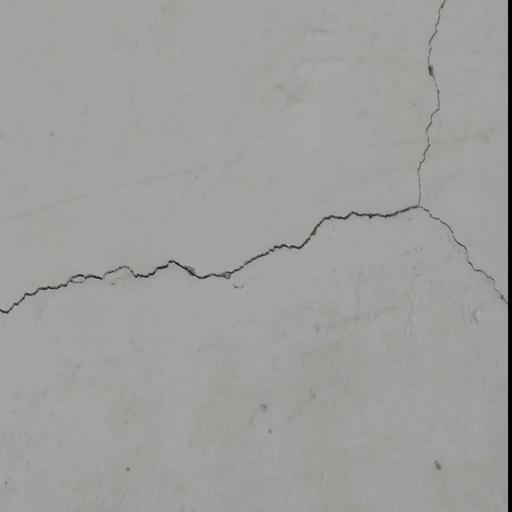major_crack: (2, 0, 506, 326)
